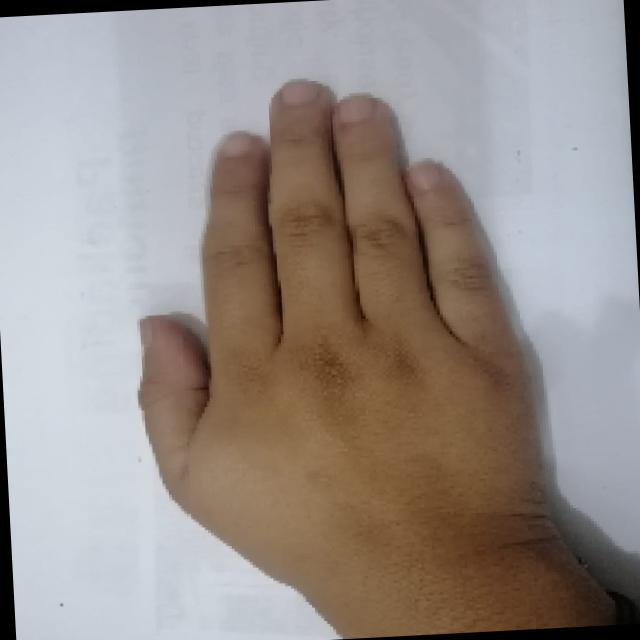Nail: (406, 160, 443, 190), (336, 95, 374, 123), (280, 79, 320, 105), (219, 131, 255, 157), (140, 318, 153, 345)
